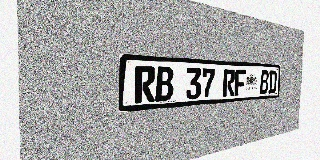3: (186, 68, 201, 99)
7: (201, 68, 215, 98)
B: (155, 66, 174, 102), (260, 70, 269, 94)
D: (268, 71, 277, 93)
F: (234, 69, 246, 96)
R: (135, 66, 155, 103), (223, 69, 235, 97)
